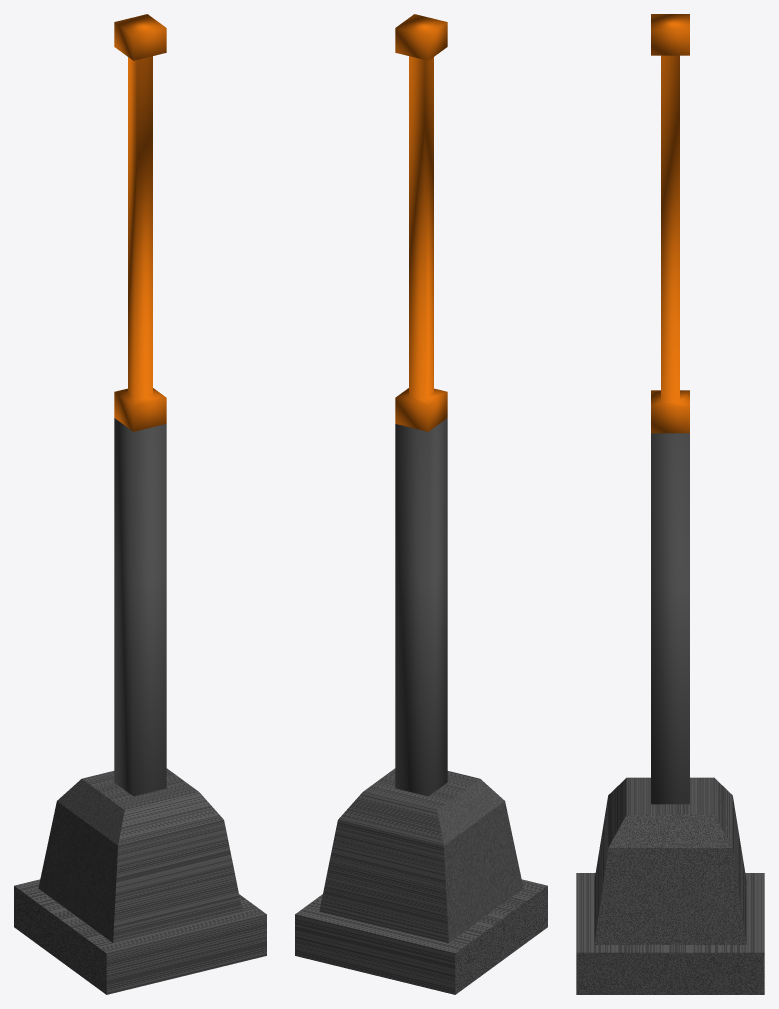
Rendered from stoplightSmall-pole.fbx.
3 renders of one model, left to right at view 1: azimuth 30°, elevation 25°; view 2: azimuth 150°, elevation 25°; view 3: azimuth 270°, elevation 25°, orthographic.
Visible parts, largest first — view 1: base; view 2: base; view 3: base.
Boxes of the visible parts, left/top/right/bottom form: base: left=14, top=14, right=266, bottom=994; base: left=295, top=14, right=547, bottom=994; base: left=576, top=14, right=764, bottom=994.
Bounding box in the file's own units: 161 × 880 × 161.
2 materials, 1 textured.
